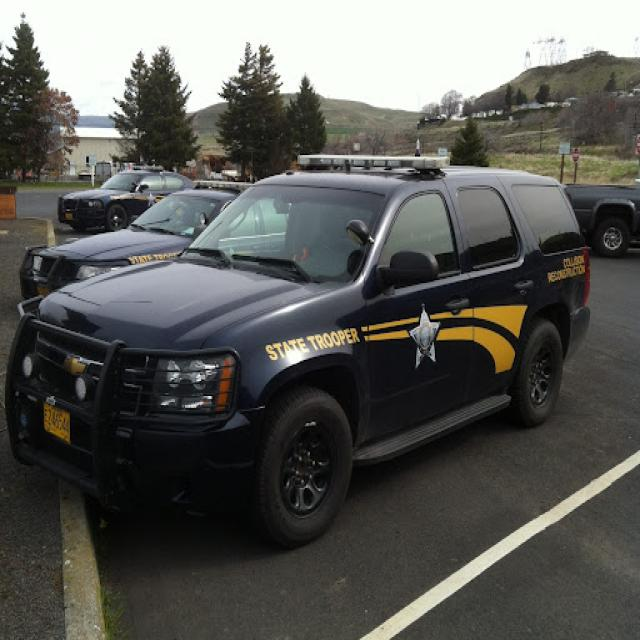cop: (0, 152, 594, 547), (18, 177, 285, 277), (58, 151, 189, 223)
